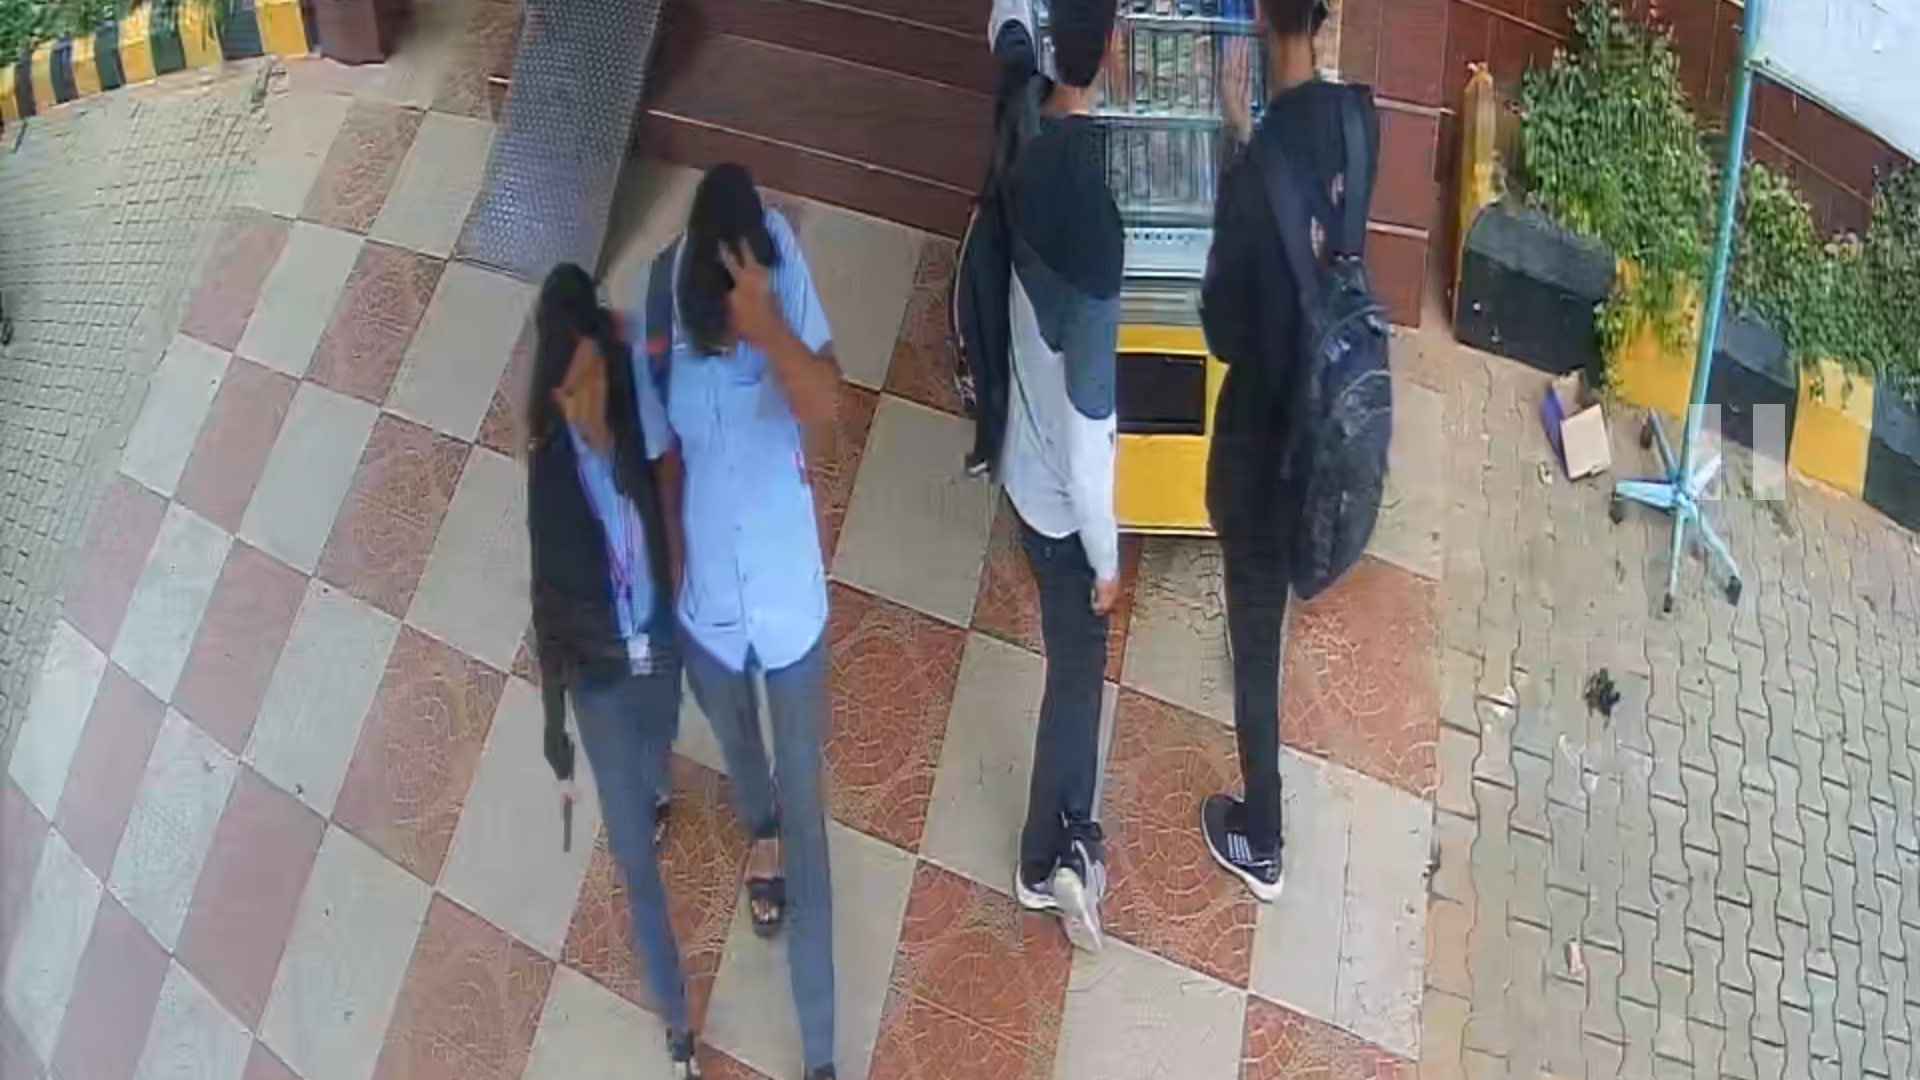intruder: (636, 144, 887, 1080)
not intruder: (492, 266, 691, 1080)
